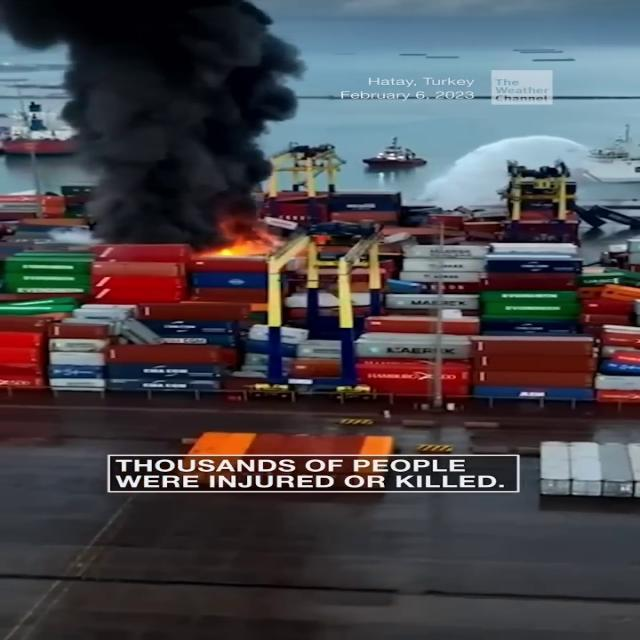Fire: (196, 230, 274, 262)
Smoke: (3, 0, 306, 231)
